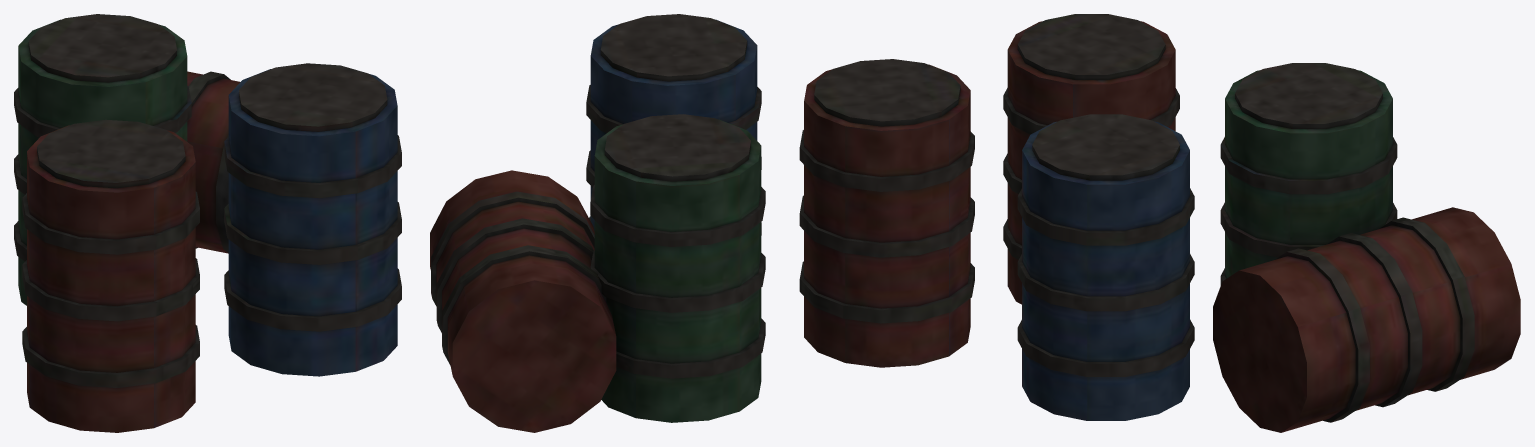
The model's file is barris.glb.
3 renders of one model, left to right at view 1: azimuth 30°, elevation 25°; view 2: azimuth 150°, elevation 25°; view 3: azimuth 270°, elevation 25°, orthographic.
Parts seen in each view (by area): view 1: barris; view 2: barris; view 3: barris.
Boxes of the visible parts, x1,y1,x2,y2 form: barris: [14, 14, 401, 432]; barris: [430, 14, 974, 432]; barris: [1003, 14, 1520, 432].
Bounding box in the file's own units: 1.69 × 0.935 × 1.79.
Materials: 1 (1 with a texture image).
